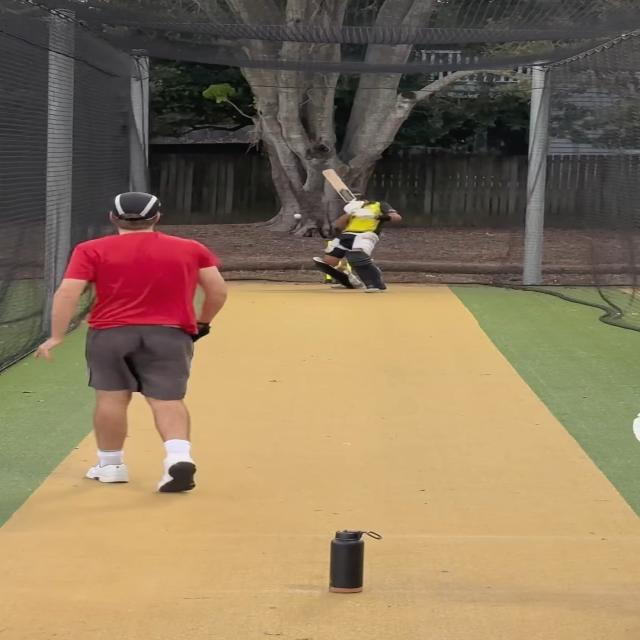Cricket ball: (292, 212, 304, 220)
Stumps: (313, 521, 383, 592)
